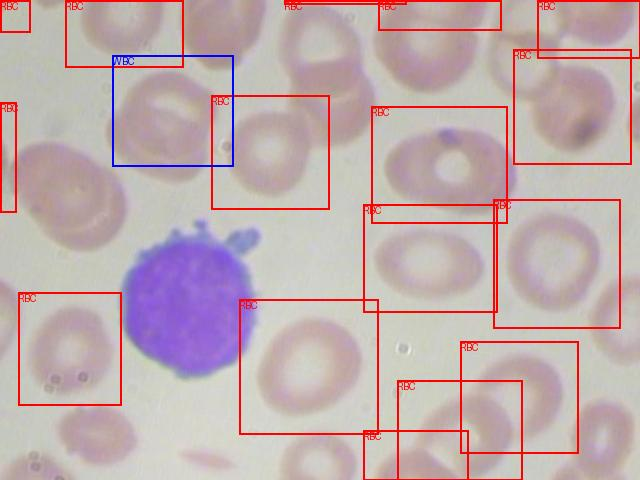RBC: (239, 299, 378, 434), (493, 199, 620, 328), (371, 106, 507, 223), (363, 204, 497, 312), (513, 49, 631, 164), (211, 95, 329, 209), (460, 341, 578, 453), (397, 380, 522, 480), (18, 292, 121, 405), (65, 0, 183, 67), (537, 0, 640, 58), (363, 430, 468, 480), (378, 0, 501, 30), (0, 102, 16, 212), (0, 0, 30, 32), (284, 0, 406, 4)
WBC: (112, 55, 233, 166)
